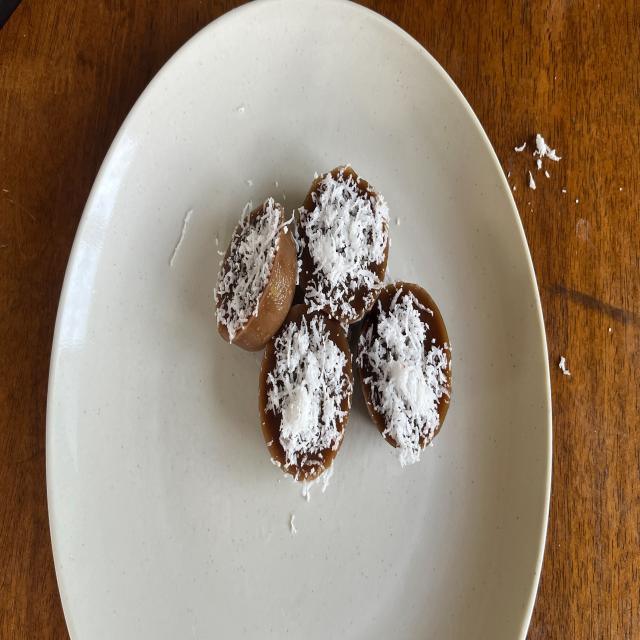Kuih lompang: (259, 304, 354, 493), (358, 282, 451, 464), (295, 164, 389, 329), (215, 198, 298, 351)
